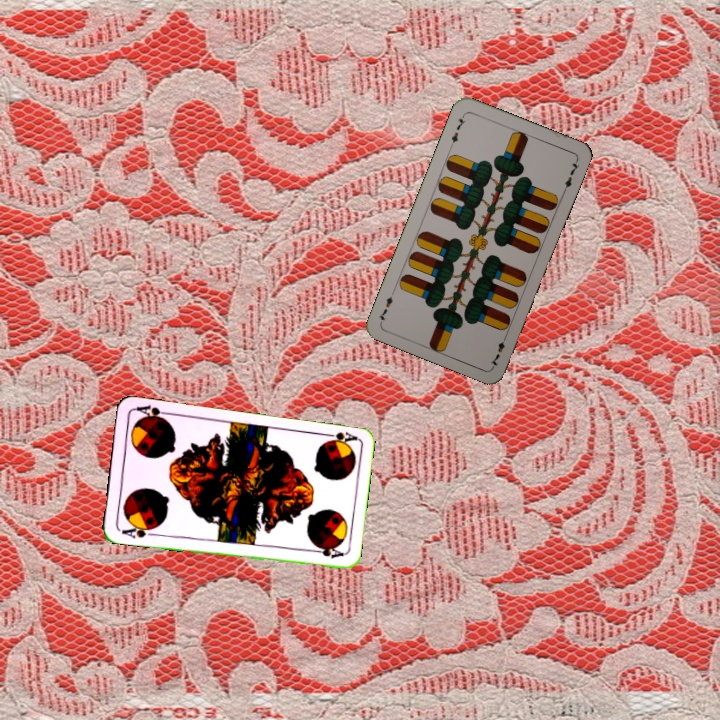E7: (486, 330, 510, 369), (446, 111, 468, 150)
SA: (117, 521, 158, 541), (319, 428, 359, 445)
